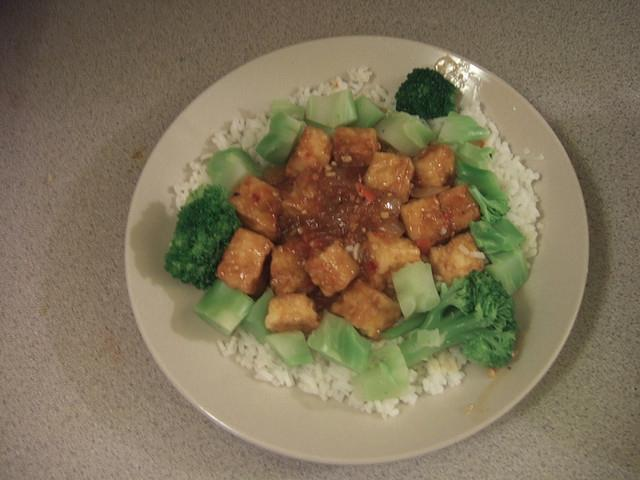broccoli: (162, 183, 242, 290), (307, 310, 373, 374), (194, 280, 255, 336), (207, 147, 271, 200), (394, 67, 457, 119), (376, 109, 438, 158), (391, 260, 441, 319), (256, 110, 307, 164), (454, 157, 510, 202), (306, 88, 357, 136), (469, 219, 526, 255), (484, 248, 528, 294), (242, 287, 276, 344), (436, 111, 490, 146), (264, 330, 314, 366), (468, 184, 511, 224), (345, 93, 386, 128), (380, 312, 429, 340), (457, 142, 493, 170), (416, 328, 448, 349)
